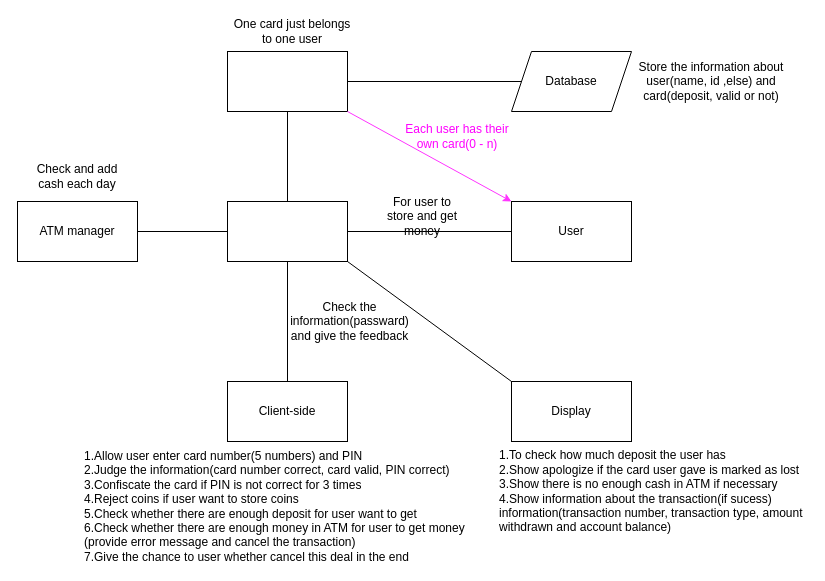
The diagram is 825 pixels wide and 581 high, and some of its shapes have lost their labels. The shapes that lost their labels are listed below. From the top down, each one's box as (x1, y1, x2, y2) in pixels, then its label:
(226, 50, 348, 112): Card
(226, 200, 348, 262): ATM
